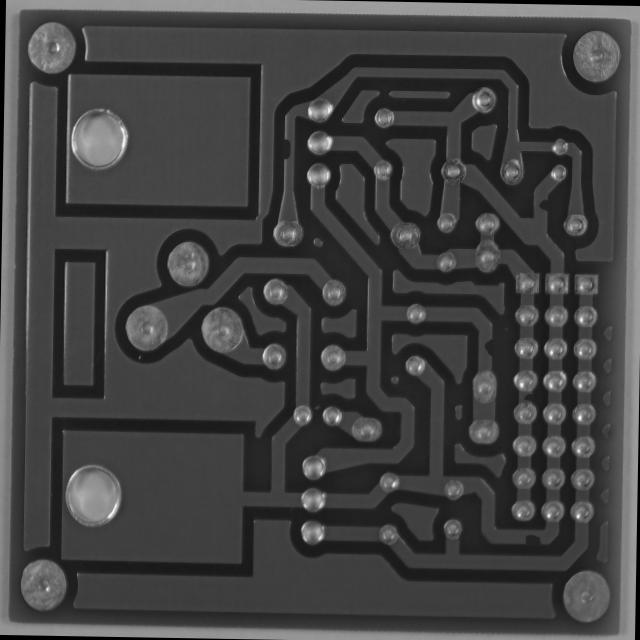mouse_bite: (277, 134, 298, 164), (476, 334, 498, 359), (520, 526, 544, 548), (531, 194, 552, 216), (514, 388, 538, 406)
